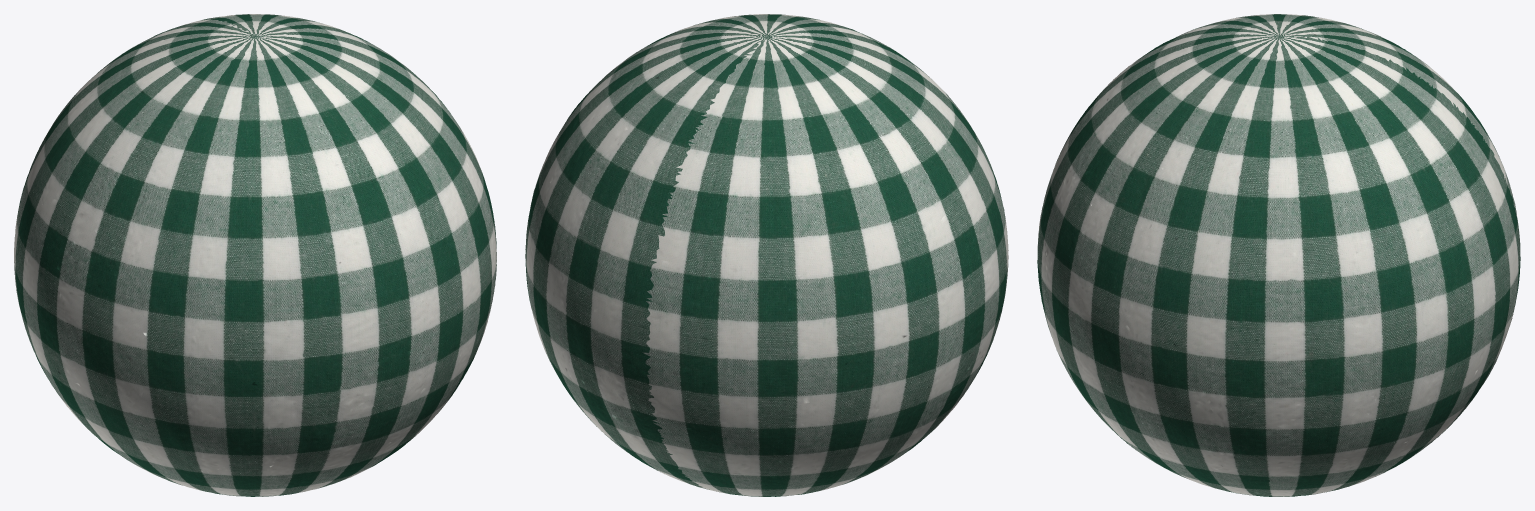
Rendered from gingham_check_1k.gltf.
3 views of the same model, side by side, from view 1: azimuth 30°, elevation 25°; view 2: azimuth 150°, elevation 25°; view 3: azimuth 270°, elevation 25° (orthographic).
Visible parts, largest first — view 1: sphere_gltf; view 2: sphere_gltf; view 3: sphere_gltf.
Boxes of the visible parts, box(x1,y1,x2,y2) form: sphere_gltf: box(14, 14, 496, 496); sphere_gltf: box(525, 14, 1008, 496); sphere_gltf: box(1037, 14, 1520, 496).
Bounding box in the file's own units: 0.297 × 0.297 × 0.297.
Materials: 1 (1 with a texture image).
